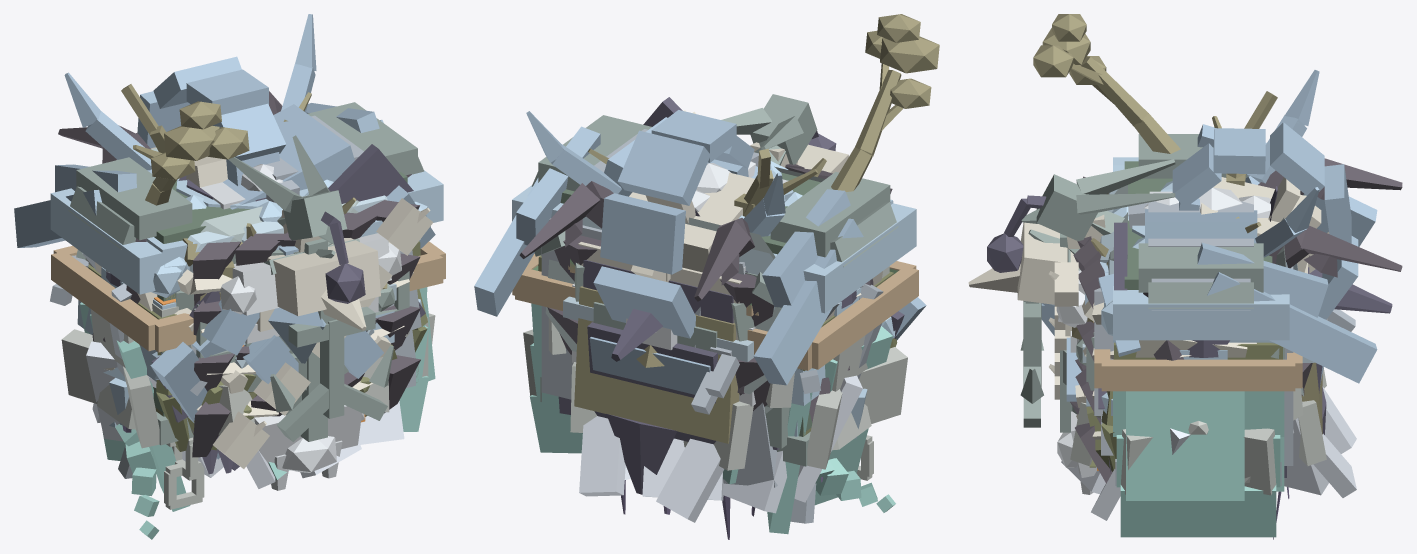
The model's file is armor.glb.
The picture shows the model from 3 angles, left to right: view 1: azimuth 30°, elevation 25°; view 2: azimuth 150°, elevation 25°; view 3: azimuth 270°, elevation 25°; orthographic projection. The views are drawn at different scales.
Parts seen in each view (by area): view 1: CorsairsRest_Chest, Stormcaller_Chest, Stormcaller_Helm, Cindershell_Chest, Rimebound_Chest, Rimebound_Helm, CorsairsRest_Legs, Boneplate_Helm, Boneplate_Chest, Chitin_Legs_LowerTorso_Trim, Wraithbound_Legs, Mirewalker_Chest (+12 smaller); view 2: Stormcaller_Helm, Stormcaller_Chest, Stormcaller_Legs, CorsairsRest_Legs, Mirewalker_Helm, CorsairsRest_Chest, Wraithbound_Legs, Duskveil_Helm, Mirewalker_Chest, Chitin_Legs_LowerTorso_Trim, CorsairsRest_Helm, Wraithbound_Chest (+11 smaller); view 3: Wraithbound_Legs, Stormcaller_Chest, Stormcaller_Helm, CorsairsRest_Chest, Rimebound_Chest, Chitin_Legs_LowerTorso_Trim, Boneplate_Helm, CorsairsRest_Helm, Mirewalker_Chest, CorsairsRest_Legs, Stormcaller_Legs, Cindershell_Helm (+11 smaller).
Part boxes in pixels (<box>): CorsairsRest_Chest: <box>68,102,424,445</box>; Stormcaller_Chest: <box>14,103,435,459</box>; Stormcaller_Helm: <box>64,14,316,186</box>; Cindershell_Chest: <box>91,174,420,457</box>; Rimebound_Chest: <box>50,170,443,381</box>; Rimebound_Helm: <box>200,164,401,490</box>; CorsairsRest_Legs: <box>61,258,435,509</box>; Boneplate_Helm: <box>151,147,390,393</box>; Boneplate_Chest: <box>174,198,433,468</box>; Chitin_Legs_LowerTorso_Trim: <box>51,241,445,352</box>; Wraithbound_Legs: <box>79,287,435,539</box>; Mirewalker_Chest: <box>145,101,356,300</box>; Stormcaller_Helm: <box>526,110,785,394</box>; Stormcaller_Chest: <box>474,117,926,385</box>; Stormcaller_Legs: <box>570,354,862,522</box>; CorsairsRest_Legs: <box>523,266,907,480</box>; Mirewalker_Helm: <box>574,148,817,443</box>; CorsairsRest_Chest: <box>531,115,898,466</box>; Wraithbound_Legs: <box>529,303,895,534</box>; Duskveil_Helm: <box>583,130,836,494</box>; Mirewalker_Chest: <box>810,14,939,191</box>; Chitin_Legs_LowerTorso_Trim: <box>512,253,918,370</box>; CorsairsRest_Helm: <box>534,94,817,352</box>; Wraithbound_Chest: <box>541,129,883,523</box>; Wraithbound_Legs: <box>1113,391,1284,537</box>; Stormcaller_Chest: <box>1041,124,1377,401</box>; Stormcaller_Helm: <box>1041,70,1358,385</box>; CorsairsRest_Chest: <box>1020,134,1263,432</box>; Rimebound_Chest: <box>1085,157,1289,415</box>; Chitin_Legs_LowerTorso_Trim: <box>1094,349,1302,391</box>; Boneplate_Helm: <box>968,177,1329,407</box>; CorsairsRest_Helm: <box>1021,159,1306,359</box>; Mirewalker_Chest: <box>1033,14,1180,265</box>; CorsairsRest_Legs: <box>1070,368,1326,495</box>; Stormcaller_Legs: <box>1061,386,1356,520</box>; Cindershell_Helm: <box>1258,158,1402,395</box>.
Bounding box in the file's own units: 2.65 × 3.78 × 3.29.
